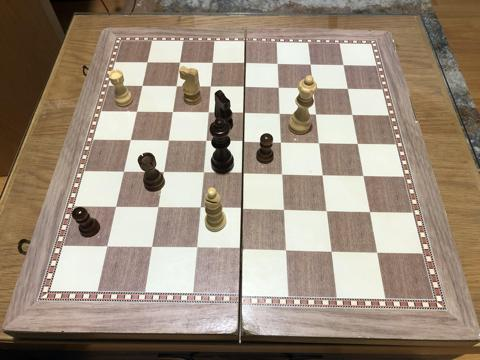xcorner: (304, 59, 316, 71), (271, 59, 283, 71), (239, 58, 251, 70), (206, 58, 218, 70), (141, 57, 153, 69), (272, 82, 284, 94), (238, 82, 250, 94), (204, 81, 216, 93), (170, 81, 182, 93), (136, 80, 148, 92), (309, 109, 321, 121), (238, 108, 250, 120), (202, 107, 214, 119), (166, 107, 178, 119), (131, 106, 143, 118), (350, 138, 362, 150), (275, 137, 287, 149), (237, 136, 249, 148), (162, 135, 174, 147), (356, 170, 368, 182), (276, 169, 288, 181), (197, 167, 209, 179), (157, 167, 169, 179), (118, 166, 130, 178), (362, 206, 374, 218), (320, 205, 332, 217), (278, 204, 290, 216), (194, 203, 206, 215), (152, 202, 164, 214), (110, 201, 122, 213), (369, 246, 381, 258), (324, 245, 336, 257), (280, 244, 292, 256), (235, 243, 247, 255), (102, 241, 114, 253), (337, 60, 348, 72), (174, 57, 185, 69), (341, 84, 353, 95), (307, 83, 318, 95), (345, 110, 357, 121), (274, 108, 285, 120), (313, 138, 324, 150), (200, 136, 211, 148), (316, 170, 328, 181), (237, 168, 248, 180), (236, 204, 248, 215), (191, 242, 202, 254), (146, 242, 158, 253), (125, 135, 136, 146)
